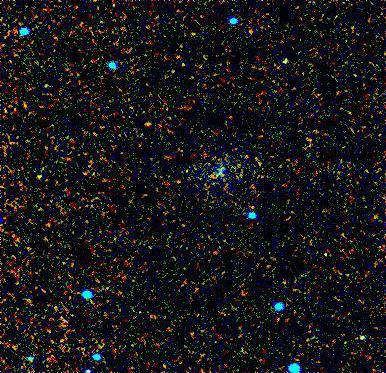star: (132, 106, 162, 136)
